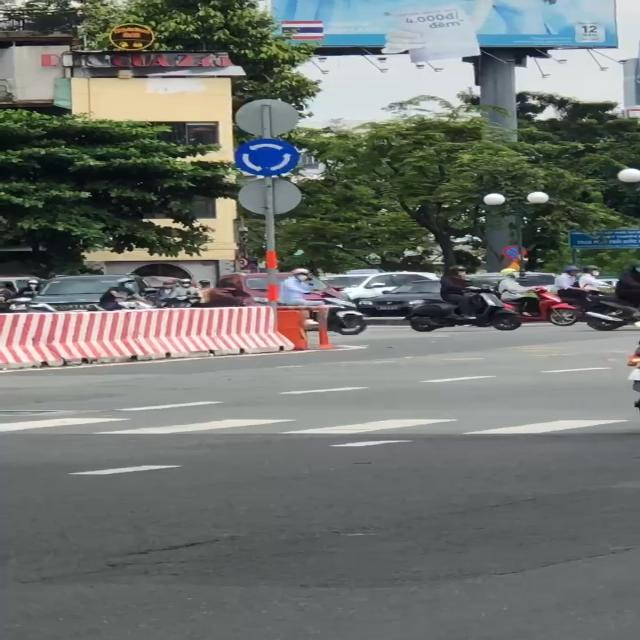Bien bao noi giao nhau chay theo vong xuyen: (226, 136, 301, 178)
